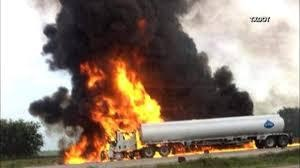fire: (60, 57, 165, 162)
